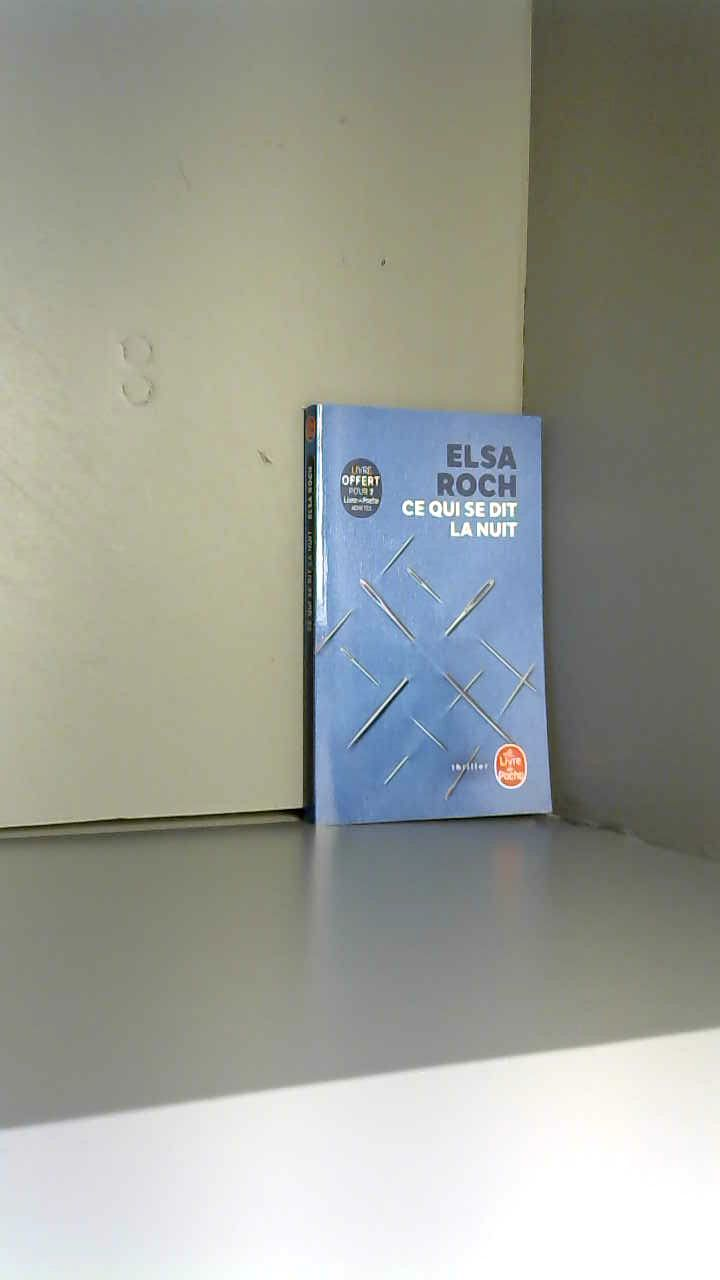book: (266, 361, 601, 875)
